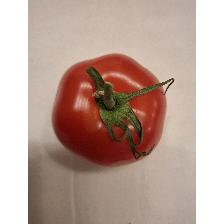Tomate: (48, 49, 174, 169)
